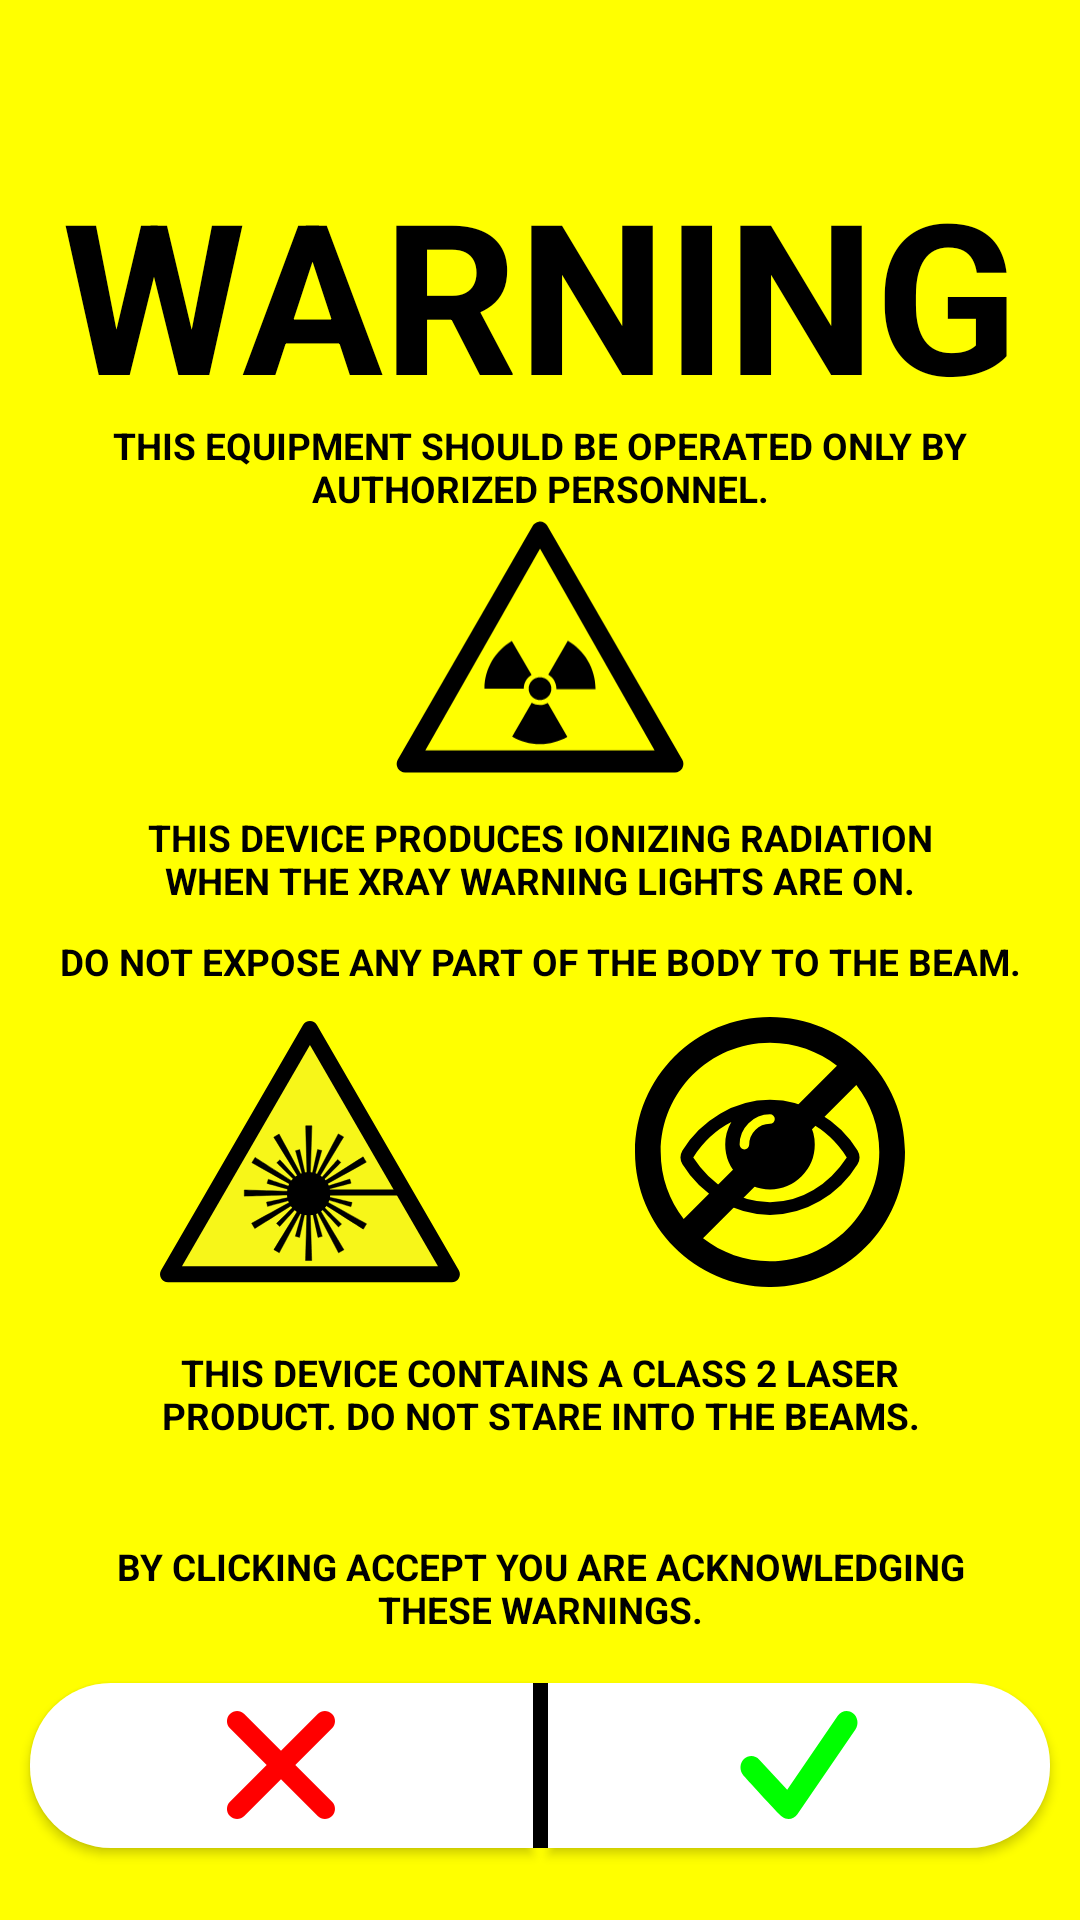

Icons on this 1080*1920 Android screen, each with the point to tap as [x,y]:
laser eye warning: [770,1152]
laser symbol: [310,1152]
